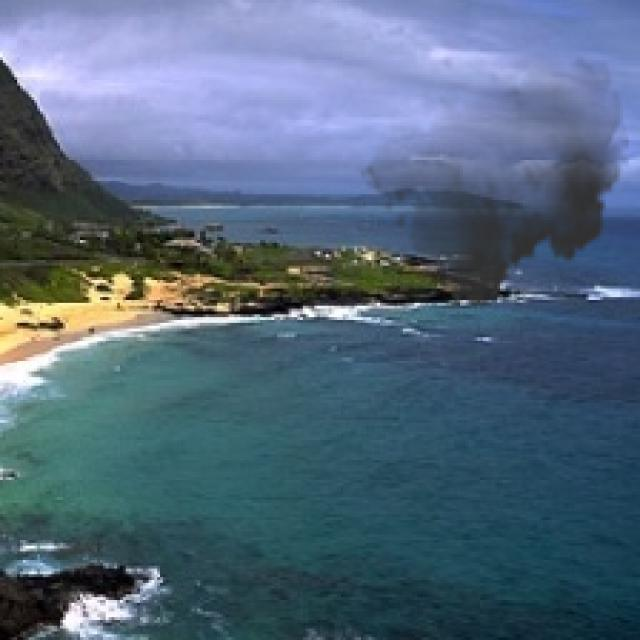smoke: (357, 43, 629, 317)
